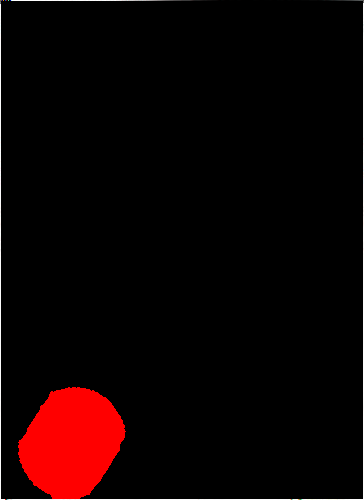stamp: (23, 412, 108, 496), (39, 387, 120, 470)
